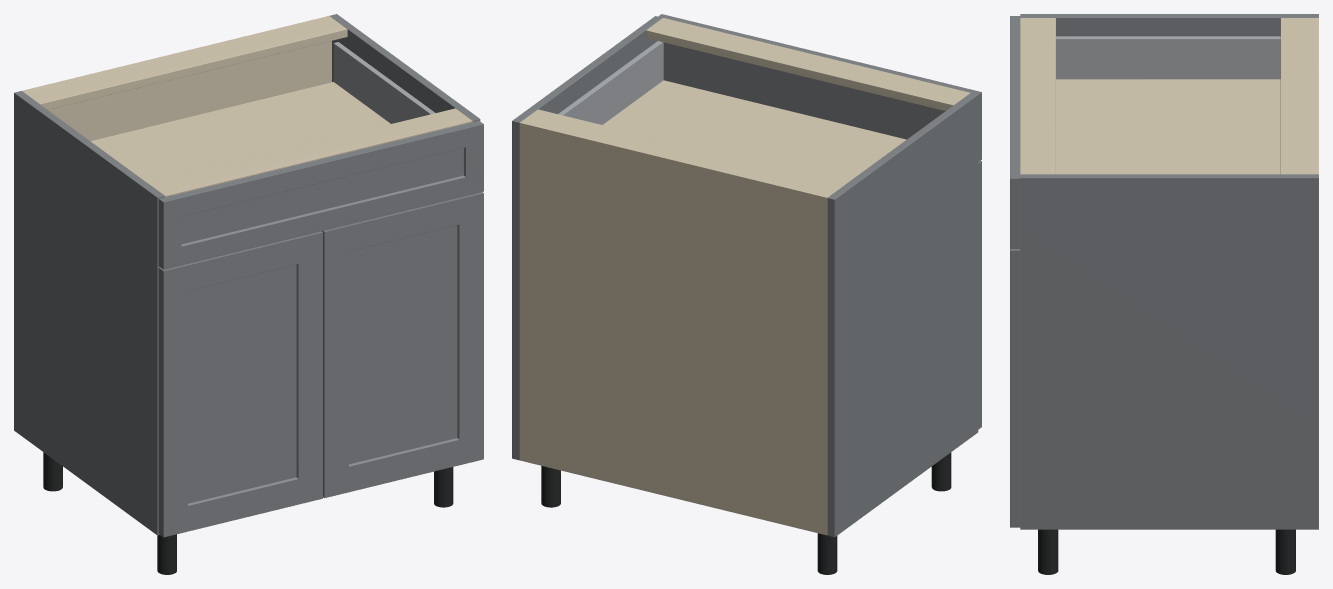
Rendered from oppein-ply-gss-b30.glb.
The picture shows the model from 3 angles, left to right: view 1: azimuth 30°, elevation 25°; view 2: azimuth 150°, elevation 25°; view 3: azimuth 270°, elevation 25°; orthographic projection. The views are drawn at different scales.
Parts seen in each view (by area): view 1: Cabinet side, Door, Door.001, Drawer front, Drawer floor, Cabinet back, Top support rail, Top support rail.001, Drawer side.001, Cabinet side.001, Adjustable foot.001, Adjustable foot.003 (+1 smaller); view 2: Cabinet back, Cabinet side, Drawer floor, Drawer front, Top support rail.001, Cabinet side.001, Top support rail, Drawer side.001, Door, Adjustable foot, Adjustable foot.002, Cabinet bottom (+1 smaller); view 3: Cabinet side.001, Drawer floor, Drawer side, Top support rail.001, Cabinet side, Top support rail, Door.001, Drawer front, Adjustable foot.003, Adjustable foot.002, Cabinet back.
Part boxes in pixels (box(x1,y1,x2,y2)): Cabinet side: box(14, 91, 164, 535); Door: box(158, 231, 322, 537); Door.001: box(322, 192, 483, 498); Drawer front: box(158, 120, 483, 269); Drawer floor: box(90, 82, 390, 183); Cabinet back: box(22, 16, 331, 140); Top support rail: box(23, 17, 347, 109); Top support rail.001: box(148, 108, 472, 196); Drawer side.001: box(333, 42, 435, 123); Cabinet side.001: box(329, 14, 480, 121); Adjustable foot.001: box(157, 534, 176, 574); Adjustable foot.003: box(434, 467, 453, 507); Cabinet back: box(519, 120, 829, 534); Cabinet side: box(827, 93, 978, 537); Drawer floor: box(603, 80, 906, 184); Drawer front: box(658, 14, 981, 161); Top support rail.001: box(646, 18, 969, 110); Cabinet side.001: box(512, 16, 662, 460); Top support rail: box(523, 109, 844, 195); Drawer side.001: box(558, 41, 663, 124); Door: box(978, 160, 981, 429); Adjustable foot: box(817, 533, 837, 574); Adjustable foot.002: box(541, 466, 560, 507); Cabinet bottom: box(519, 456, 826, 535); Cabinet side.001: box(1020, 174, 1318, 529); Drawer floor: box(1056, 79, 1280, 174); Drawer side: box(1056, 36, 1280, 79); Top support rail.001: box(1020, 18, 1055, 174); Cabinet side: box(1020, 14, 1318, 36); Top support rail: box(1280, 18, 1315, 174); Door.001: box(1010, 249, 1020, 527); Drawer front: box(1010, 16, 1020, 248); Adjustable foot.003: box(1038, 529, 1058, 574); Adjustable foot.002: box(1275, 529, 1295, 574); Cabinet back: box(1313, 18, 1318, 174).
Bounding box in the file's own units: 0.762 × 0.8763 × 0.6064.
